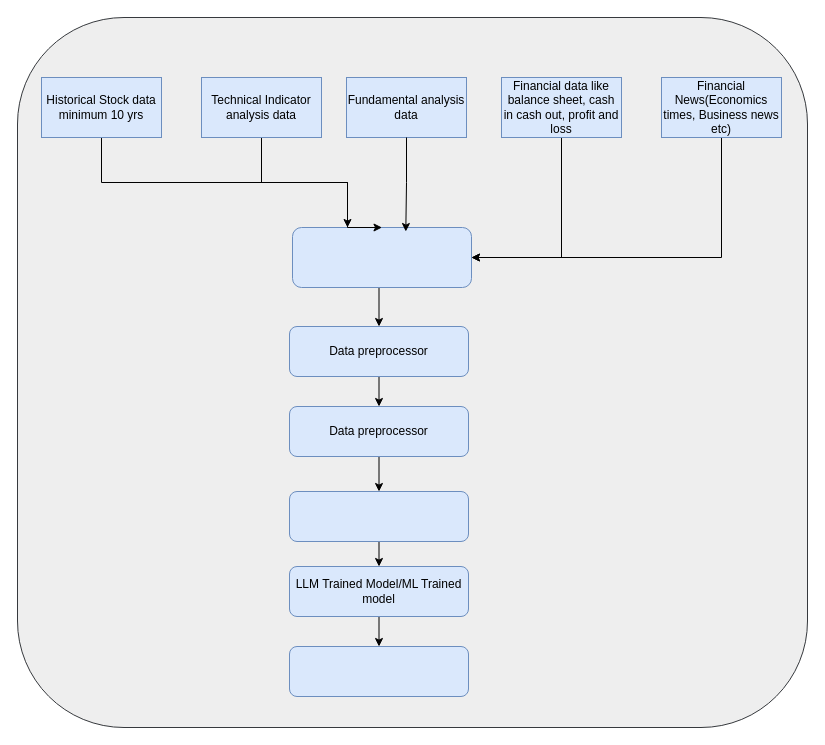
Some shapes in this 825 by 745 pixel diagram are drawn without their labels. Each missing label, with the centre of its shape:
"DATA" belongs at [382,257].
"Data splitting based on validation and trainer data" belongs at [378,516].
"Prediction the future value" belongs at [378,671].
